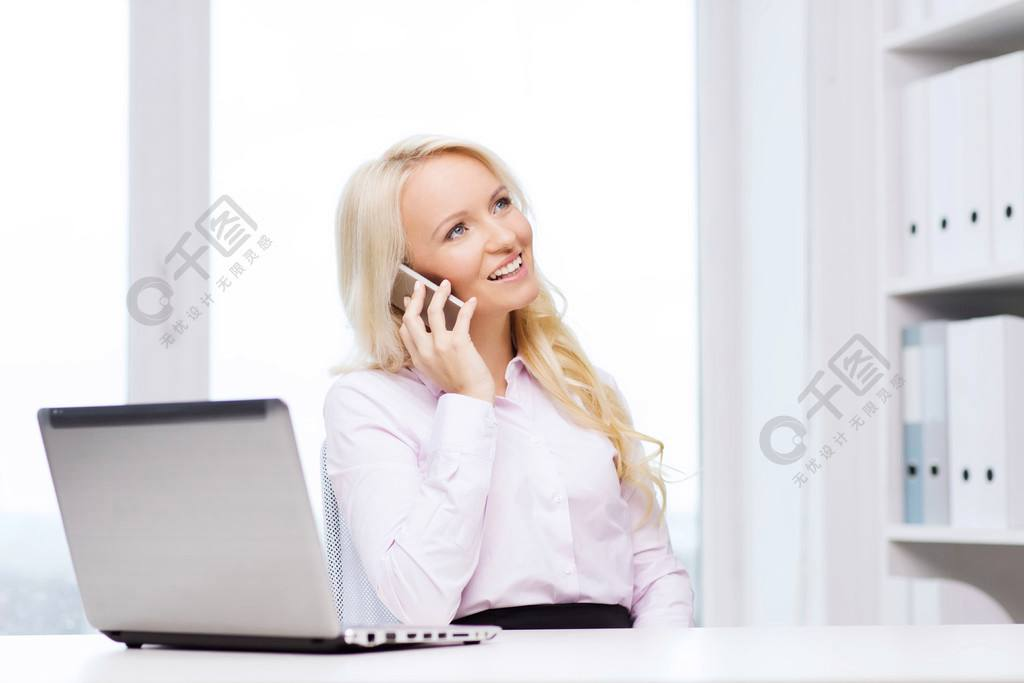calling: (380, 261, 500, 393)
